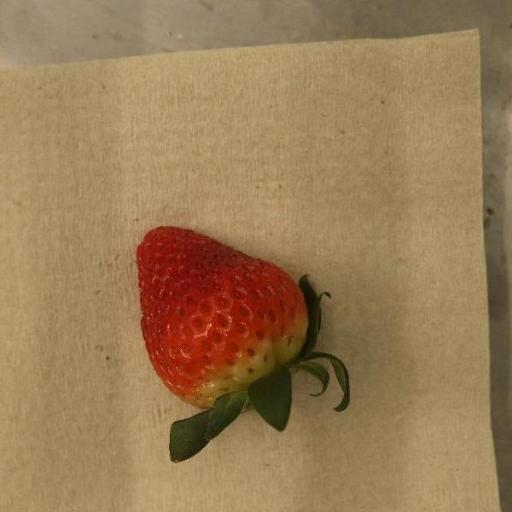Strawberry: (137, 226, 352, 465)
